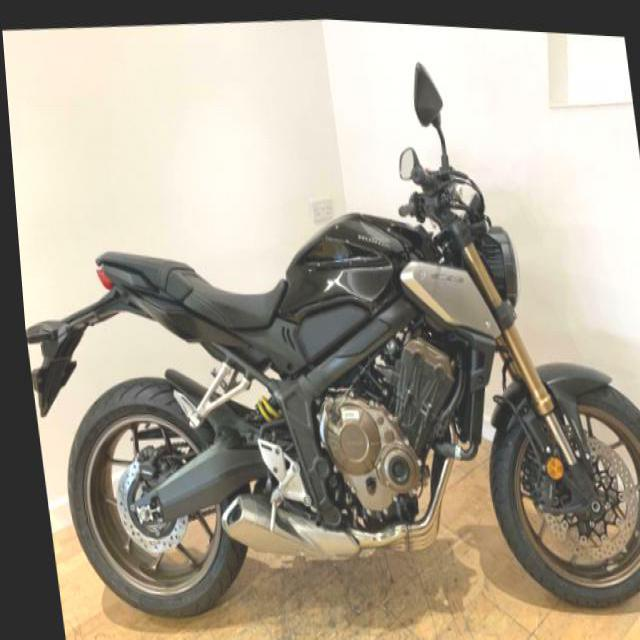CB650R: (22, 156, 639, 639)
